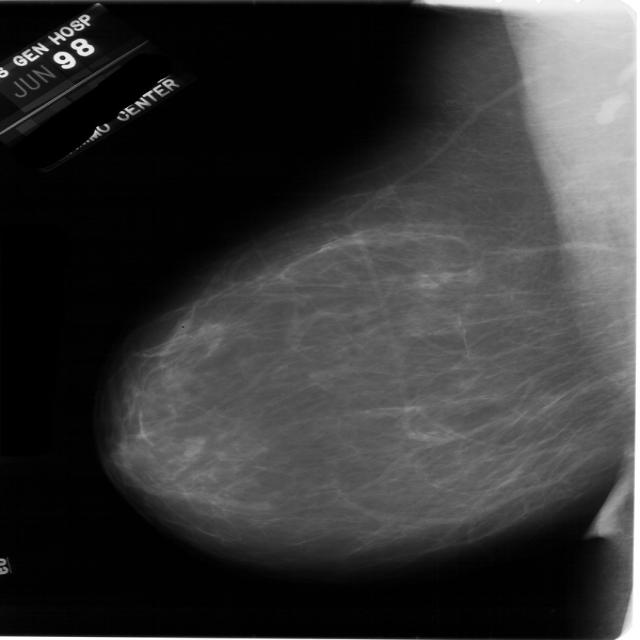tumour: (179, 434, 205, 456)
